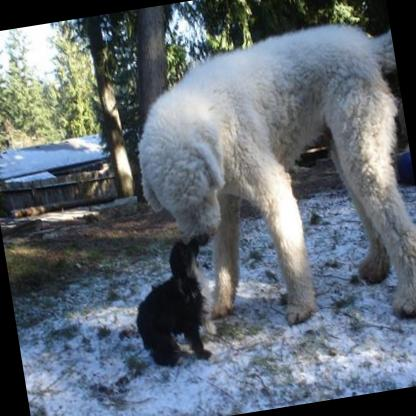komondor: (121, 12, 416, 359)
